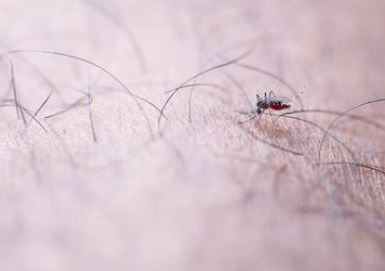dengue_mosquito: (239, 86, 305, 117)
